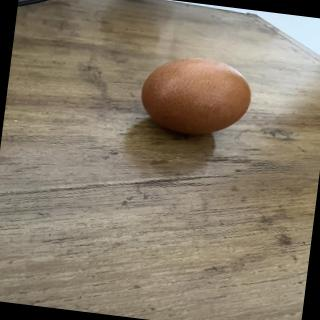Telur: (139, 51, 258, 144)
